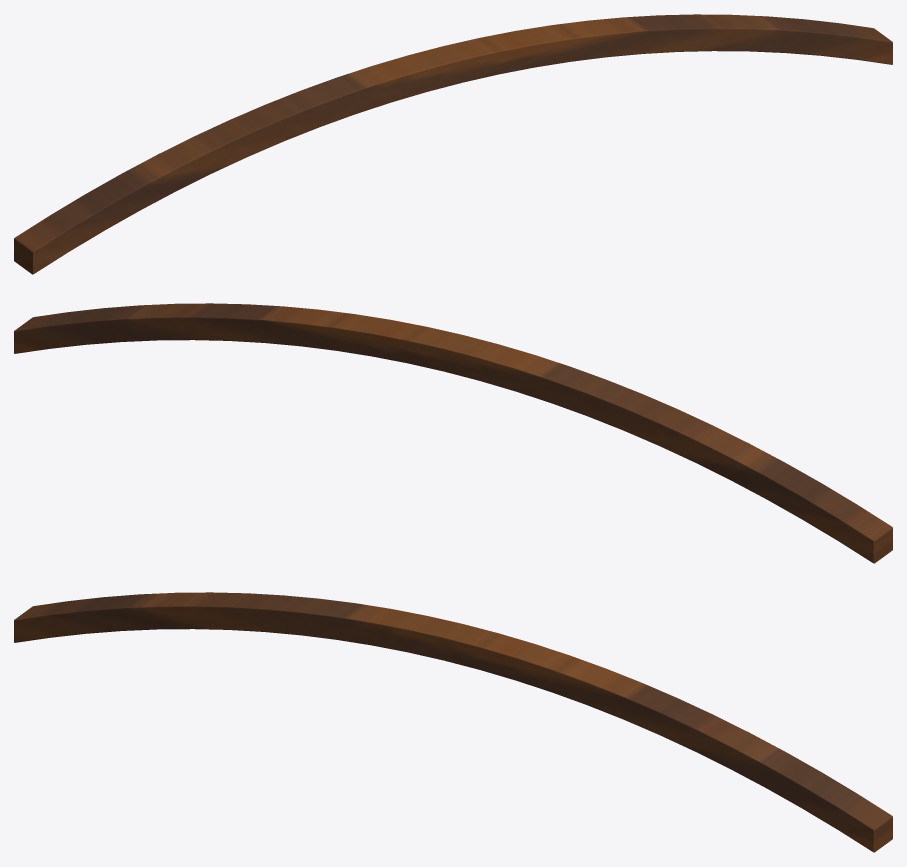
The model's file is CM_PairedWindowBay02_ArchedHood_Optional.fbx.
3 renders of one model, top to bottom at view 1: azimuth 30°, elevation 25°; view 2: azimuth 150°, elevation 25°; view 3: azimuth 330°, elevation 25°, orthographic.
Parts seen in each view (by area): view 1: CM_PairedWindowBay02_ArchedHood_Optional_Geometry; view 2: CM_PairedWindowBay02_ArchedHood_Optional_Geometry; view 3: CM_PairedWindowBay02_ArchedHood_Optional_Geometry.
Boxes of the visible parts, bbox=[...] form: CM_PairedWindowBay02_ArchedHood_Optional_Geometry: bbox=[14, 14, 892, 274]; CM_PairedWindowBay02_ArchedHood_Optional_Geometry: bbox=[14, 303, 892, 563]; CM_PairedWindowBay02_ArchedHood_Optional_Geometry: bbox=[14, 592, 892, 852].
Bounding box in the file's own units: 2.06 × 0.253 × 0.08.
